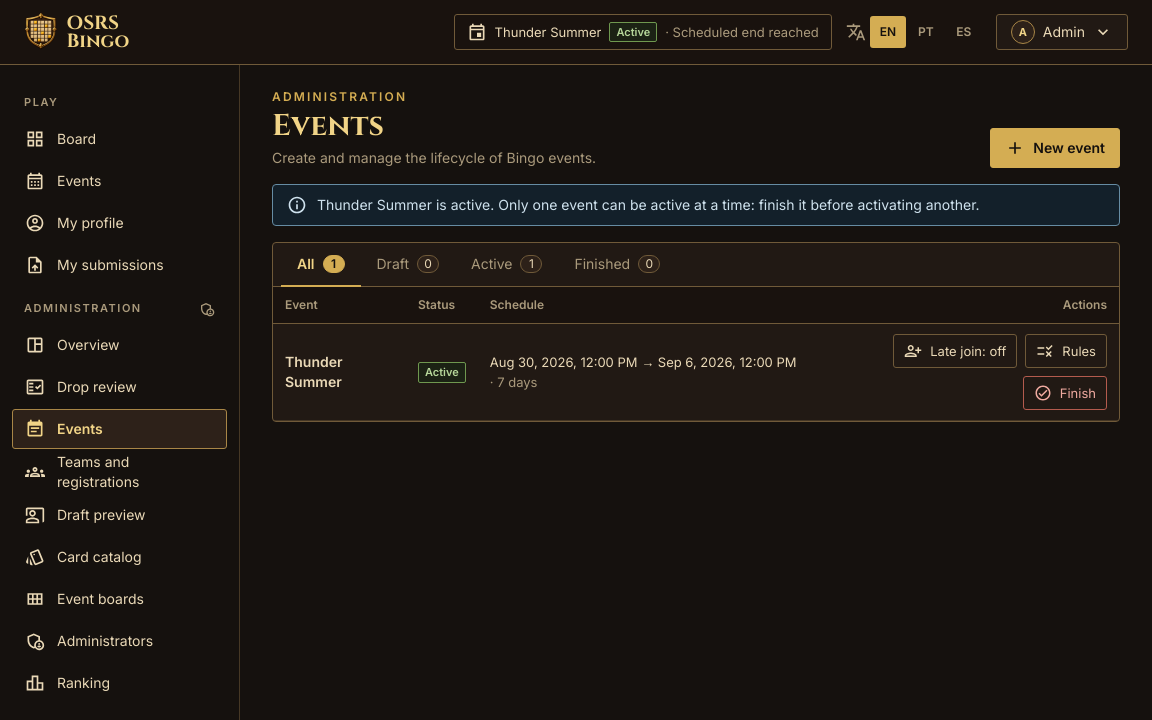
Test case: Events feature › adds a dated clarification to the rules of the active event (036)
The image size is (1152, 720).
Click the button with aria-label "Rules · Thunder Summer": [1066, 351] box [1025,334,1107,368]
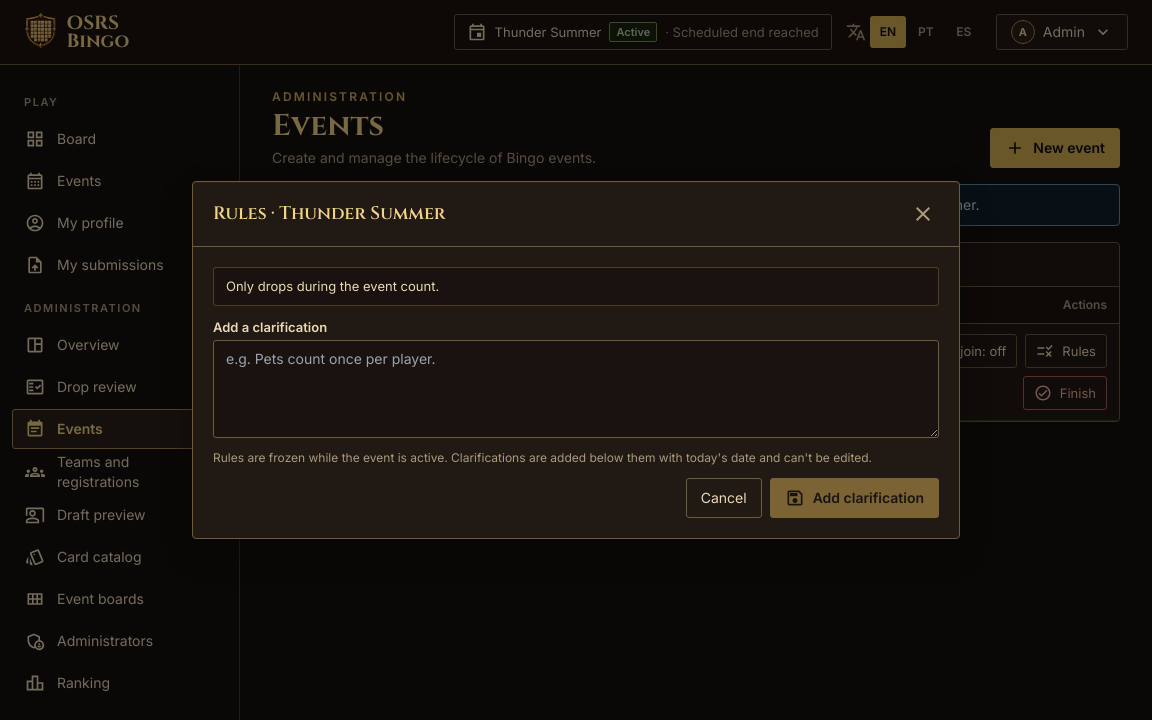
Check: the text "Only drops during the event count." is shown, box [226,278,439,294]
In the text box labelled "Add a clarification": [576, 390] box [213,340,939,438], type "Pets count once."
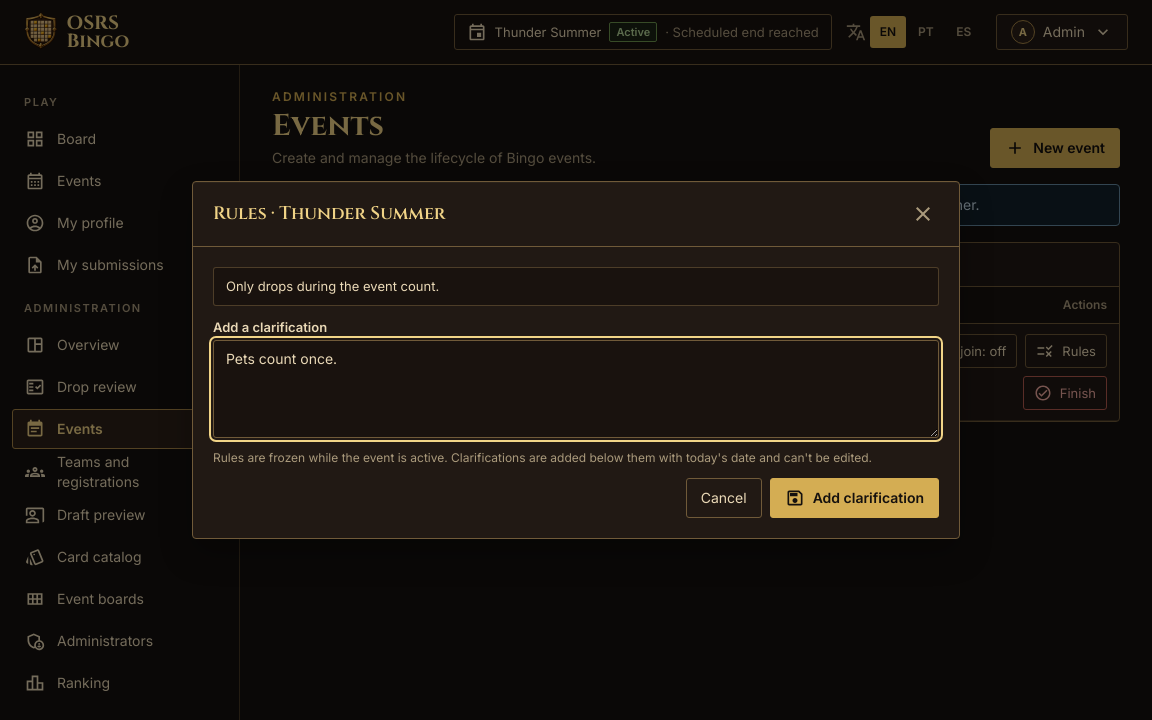
Click the button "Add clarification": [854, 498] box [770,478,939,518]
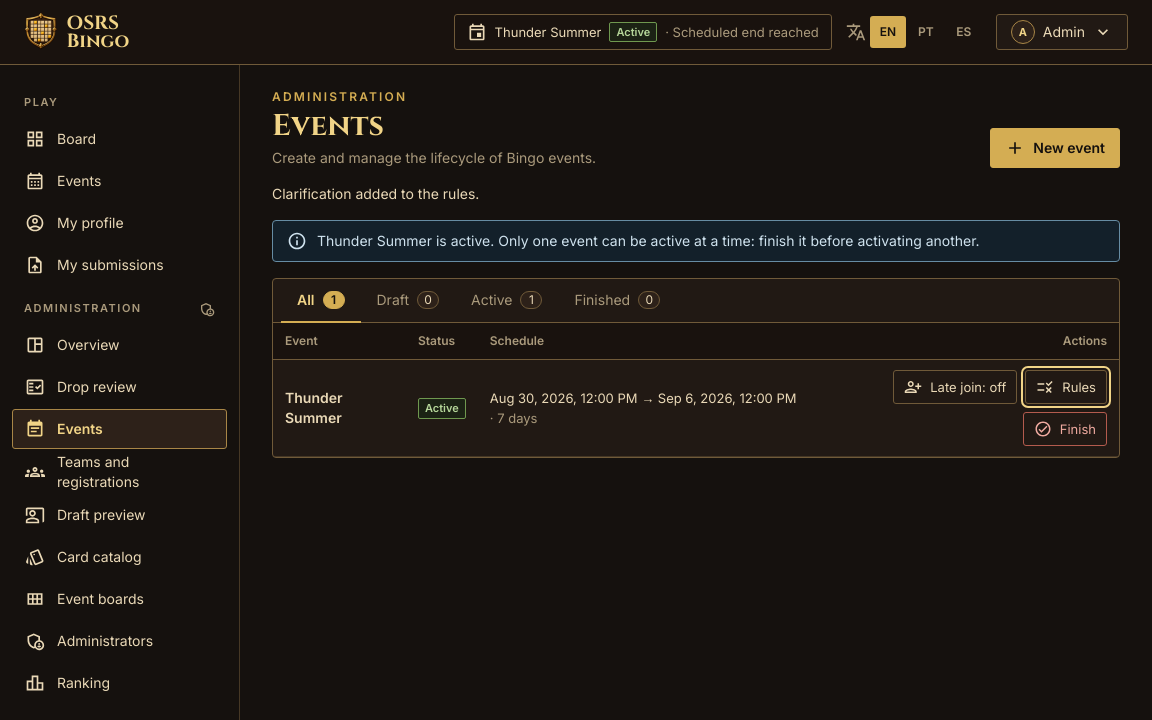
Check: the text "Clarification added to the rules." is shown, box [272,185,479,202]
